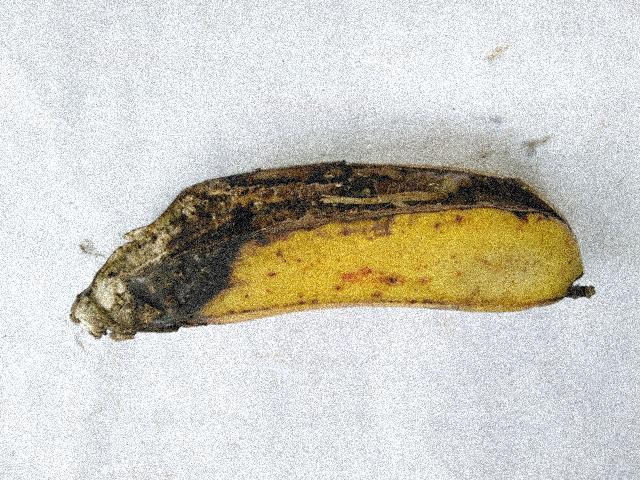rotten: (55, 132, 563, 349)
